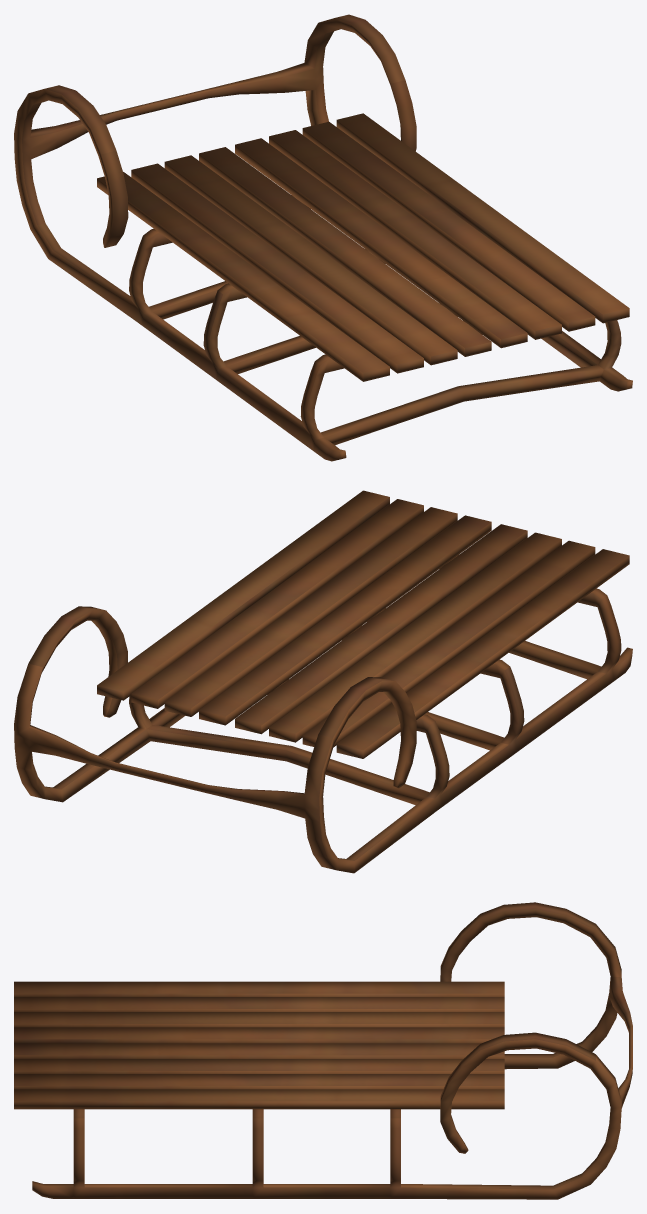
The model's file is Treno.fbx.
The picture shows the model from 3 angles, top to bottom: view 1: azimuth 30°, elevation 25°; view 2: azimuth 150°, elevation 25°; view 3: azimuth 270°, elevation 25°; orthographic projection. The views are drawn at different scales.
Parts seen in each view (by area): view 1: Treno; view 2: Treno; view 3: Treno.
Boxes of the visible parts, box(x1,y1,x2,y2) form: Treno: box(14, 14, 632, 461); Treno: box(14, 490, 632, 873); Treno: box(14, 902, 632, 1199).
Bounding box in the file's own units: 113 × 59.58 × 208.
Materials: 1 (1 with a texture image).
